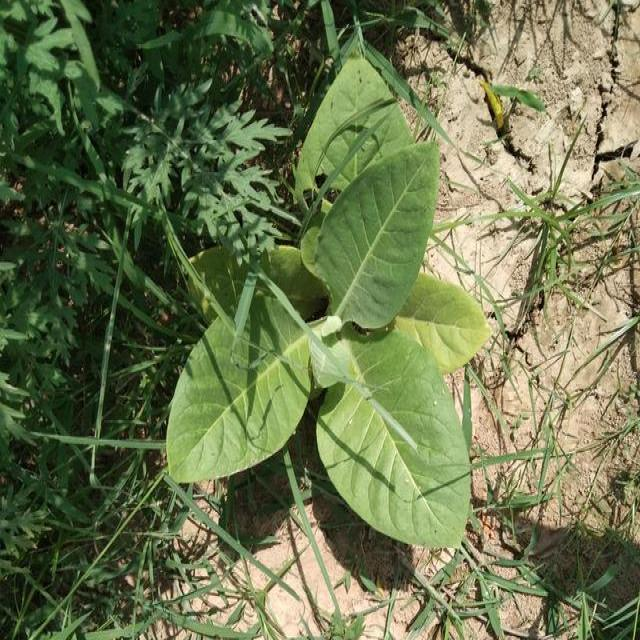crop: (182, 79, 467, 545)
